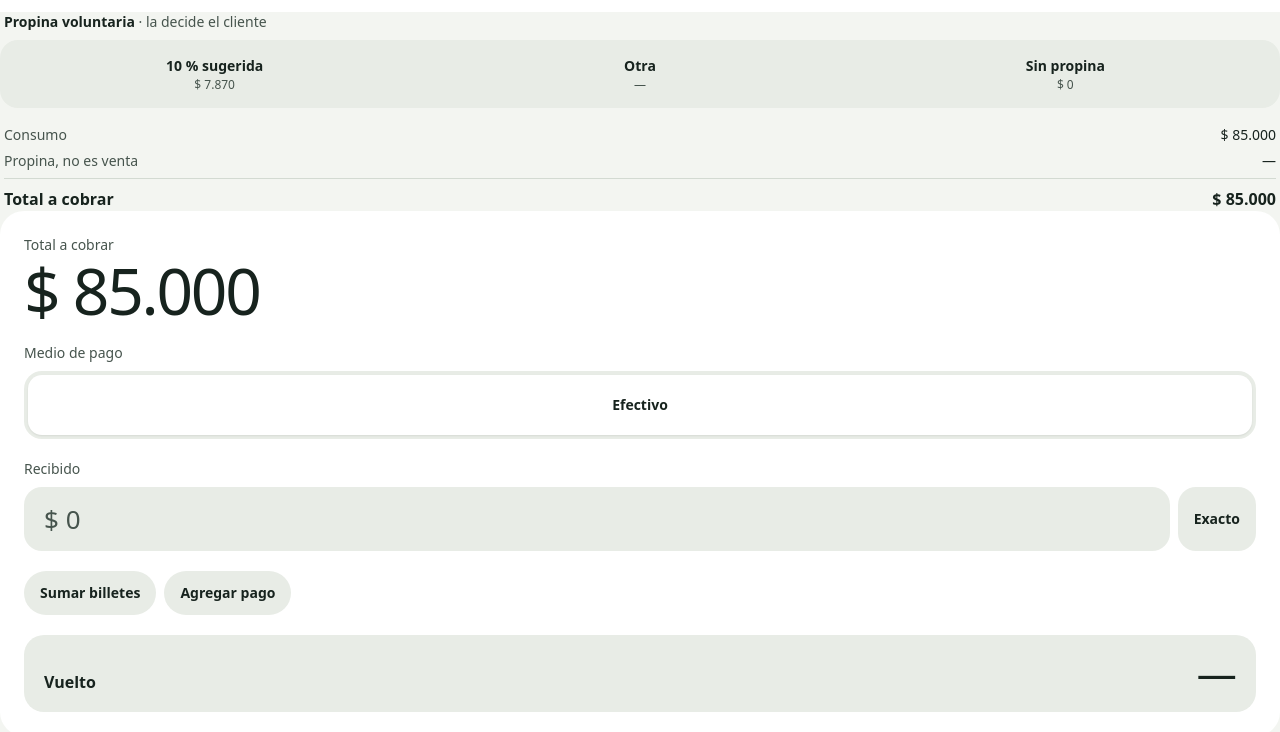
Scenario: PaymentTargetPanel — A-10 (la venta discriminada, y el total que hay que cobrar) › con propina aceptada muestra el total a cobrar, que es el número que el mesero necesita
This screenshot has width=1280, height=732.
Click the button "10 % sugerida $ 7.870".
click(215, 74)  # box [4, 44, 425, 104]
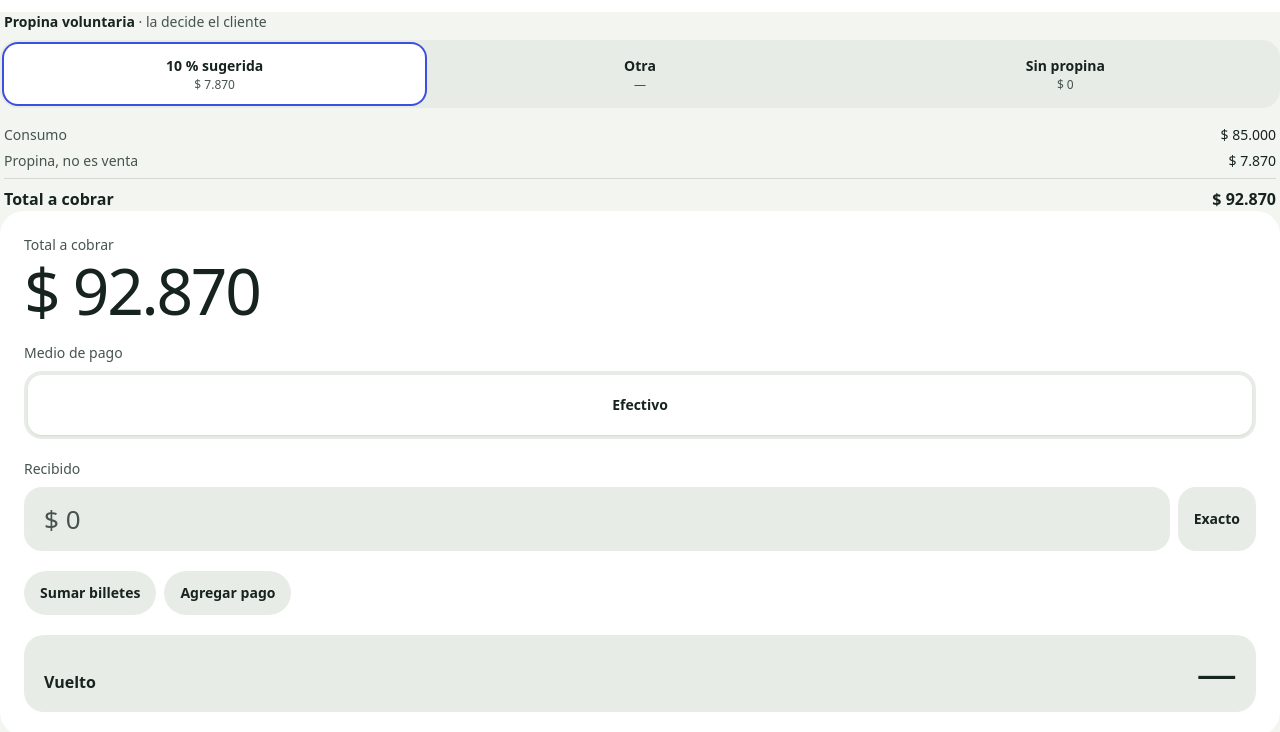
Expected: the text "Consumo" is shown, [4, 125, 67, 145]
Result: the text "$ 92.870" below "$ 85.000" is shown at [1212, 188, 1276, 210]
